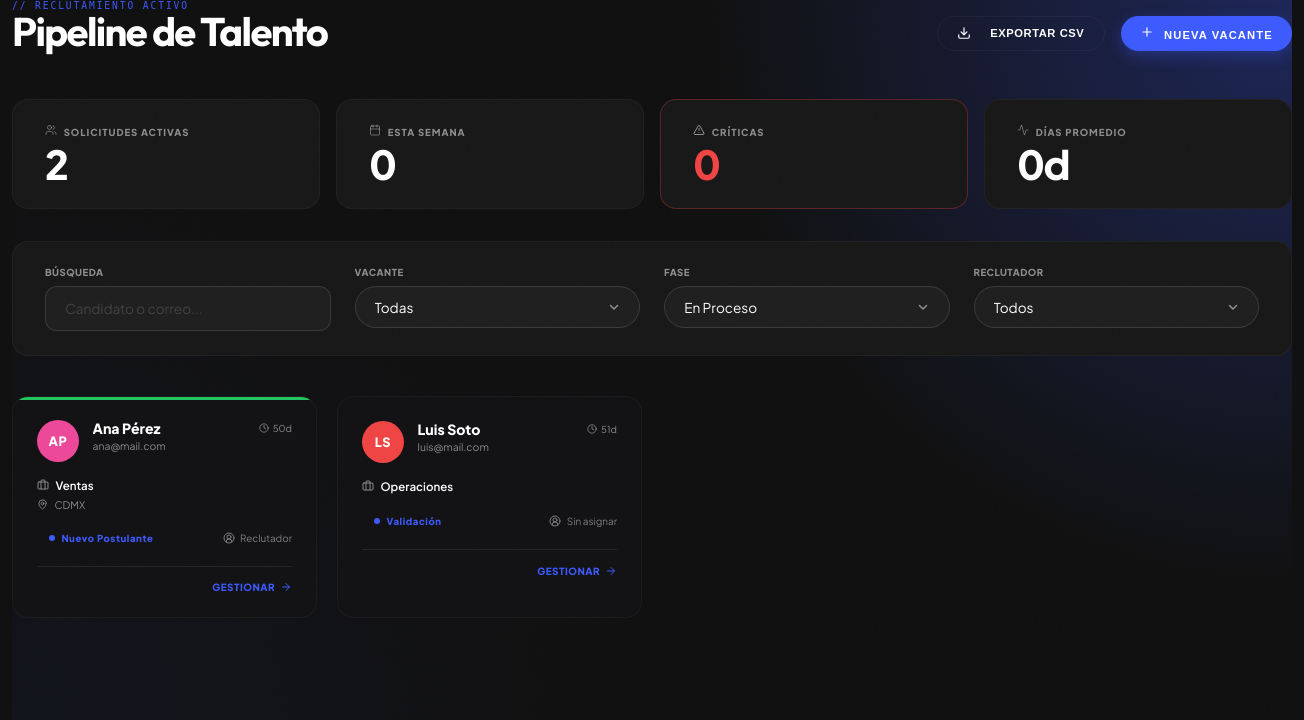
Test case: CrmDashboard › filtro de búsqueda por nombre
Expected: the text "Ana Pérez" is shown, [93,419,160,437]
Type "luis" into the field with placeholder "Candidato o correo..." at (188, 309), box [45,286,330,331]
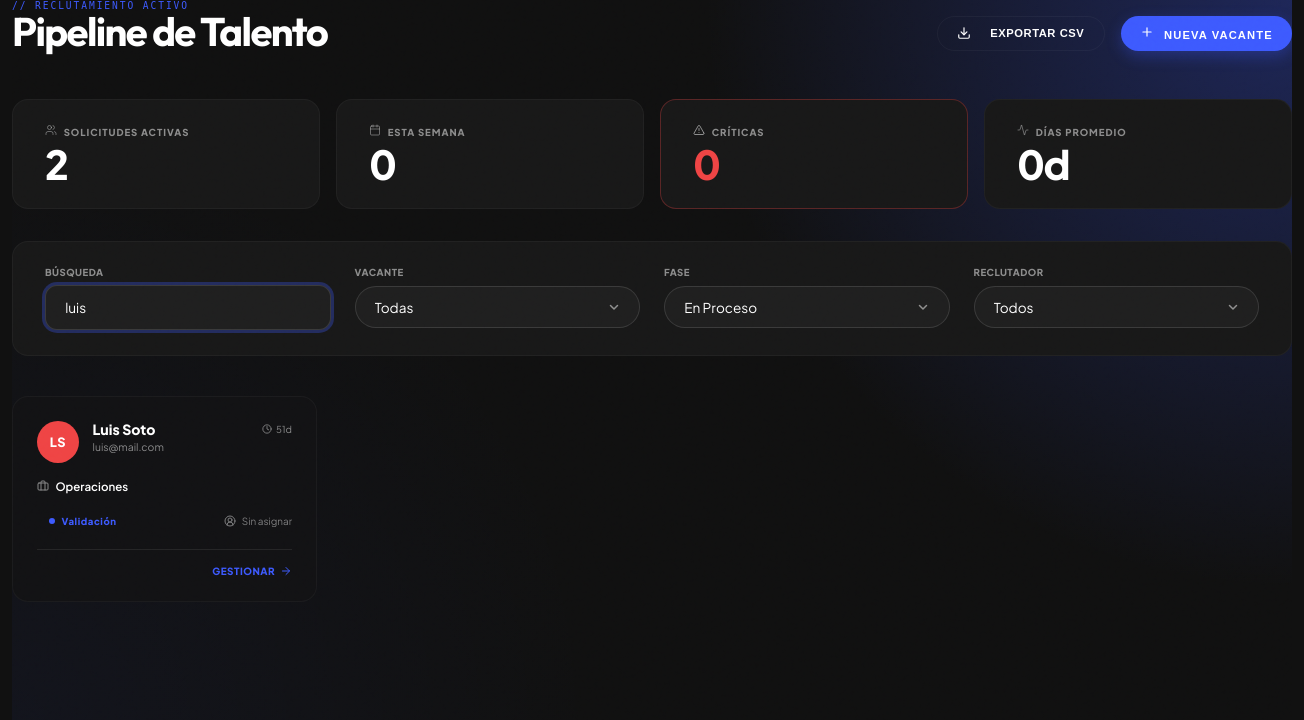
Expected: the text "Luis Soto" is shown, [93,420,155,438]
Now the link "Ana Pérez" is gone
